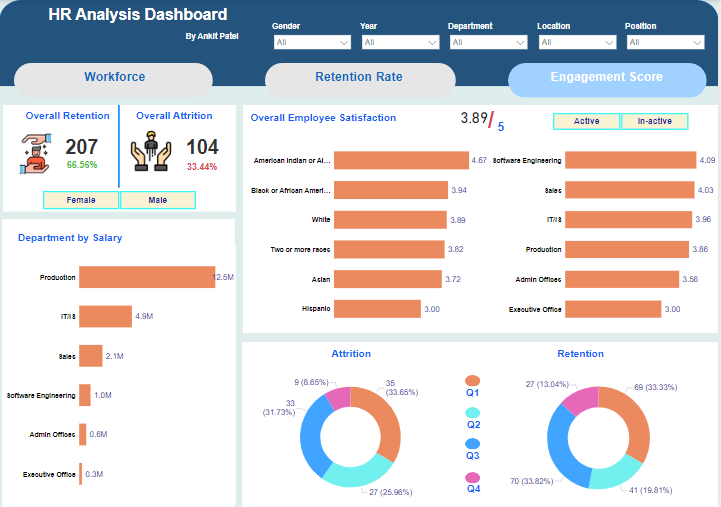

The dashboard page shown, as its layout file describes it:
{"tool":"powerbi","page":{"name":"Page 1","canvas":[1700,1200],"ordinal":0},"visuals":[{"type":"shape","box":[0,0,1700,203.9],"z":0},{"type":"actionButton","title":"HR Analysis Dashboard","box":[77.7,14,500.2,52.8],"z":1},{"type":"slicer","title":"Gender","fields":{"Values":["HR_Dataset.Sex"]},"box":[640.6,52.2,201.2,80.2],"z":2},{"type":"slicer","title":"Ethnicity ","fields":{"Values":["HR_Dataset.Ethnicity "]},"box":[848.3,51.2,202,80.6],"z":3},{"type":"slicer","title":"Location","fields":{"Values":["HR_Dataset.State"]},"box":[1265.3,51.2,202,80.6],"z":4},{"type":"slicer","title":"Department","fields":{"Values":["HR_Dataset.Department"]},"box":[1056.8,52.4,202,80.6],"z":5},{"type":"slicer","title":"Position","fields":{"Values":["HR_Dataset.Position"]},"box":[1473.8,53.1,202.2,78.8],"z":6},{"type":"shape","box":[14.1,226.2,598.4,973.8],"z":7},{"type":"image","box":[77.8,274,209.8,164.1],"z":8},{"type":"image","box":[340,274,208.1,164.1],"z":9},{"type":"barChart","fields":{"Category":["HR_Dataset.Ethnicity "],"Y":["CountNonNull(HR_Dataset.Ethnicity )"]},"box":[640.9,245.1,697.5,419.9],"z":12},{"type":"card","fields":{"Values":["Measures Table.% Female"]},"box":[13,437.7,300,37.7],"z":14},{"type":"card","fields":{"Values":["Measures Table.Male %"]},"box":[313,437.7,298.6,37.7],"z":15},{"type":"card","fields":{"Values":["Measures Table.Total Female"]},"box":[29,530.4,242,66.7],"z":16},{"type":"card","fields":{"Values":["Measures Table.Female Active"]},"box":[12,675.2,246.8,75.4],"z":17},{"type":"card","fields":{"Values":["Measures Table.Female In-active"]},"box":[15.4,828.9,243.3,54.8],"z":18},{"type":"card","fields":{"Values":["Measures Table.Female Avg Salary"]},"box":[15.4,961.4,291.3,61.7],"z":19},{"type":"card","fields":{"Values":["Measures Table.Female MEDIAN Salary"]},"box":[15.4,1101.9,299.9,97.7],"z":20},{"type":"actionButton","title":"Total No. of Employees","box":[13,494.2,598.6,36.2],"z":21},{"type":"actionButton","title":"No. of Working Employees","box":[0,637.3,611.8,36],"z":22},{"type":"actionButton","title":"No. of Employees Left","box":[12,780.2,599.8,36],"z":23},{"type":"actionButton","title":"Avg Median Salary","box":[12,1065.9,599.8,36],"z":24},{"type":"actionButton","title":"Avg Annual Salary","box":[29.1,923.1,599.8,36],"z":25},{"type":"card","fields":{"Values":["Measures Table.Total Male"]},"box":[312.6,534,298.4,66],"z":26},{"type":"card","fields":{"Values":["Measures Table.Male Active"]},"box":[328.3,675.4,248.2,75.4],"z":27},{"type":"card","fields":{"Values":["Measures Table.Male In-active"]},"box":[328.3,829.3,248.2,55],"z":28},{"type":"card","fields":{"Values":["Measures Table.Male Avg Salary"]},"box":[328.3,959.7,248.2,61.3],"z":29},{"type":"card","fields":{"Values":["Measures Table.Male Median Salary"]},"box":[328.3,1102.6,248.2,97.4],"z":30},{"type":"actionButton","title":"Is there any","box":[12,238.2,181.7,36],"z":31},{"type":"actionButton","title":"Gender Disparities","box":[166.2,238.2,219.4,36],"z":32},{"type":"actionButton","title":"?","box":[385.6,241.6,27.4,29.1],"z":33}]}

Visuals, with their boxes in screenshot pixels (x1, y1, x2, y2), scaled from the page's 1700x1200 canvas onto the 721x507 screenshot:
shape: bbox=(0, 0, 720, 86)
"HR Analysis Dashboard" actionButton: bbox=(33, 6, 245, 28)
"Gender" slicer: bbox=(272, 22, 357, 56)
"Ethnicity " slicer: bbox=(360, 22, 445, 56)
"Location" slicer: bbox=(537, 22, 622, 56)
"Department" slicer: bbox=(448, 22, 534, 56)
"Position" slicer: bbox=(625, 22, 711, 56)
shape: bbox=(6, 96, 260, 506)
image: bbox=(33, 116, 122, 185)
image: bbox=(144, 116, 232, 185)
barChart - HR_Dataset.Ethnicity  x CountNonNull(HR_Dataset.Ethnicity ): bbox=(272, 104, 568, 281)
card - Measures Table.% Female: bbox=(6, 185, 133, 201)
card - Measures Table.Male %: bbox=(133, 185, 259, 201)
card - Measures Table.Total Female: bbox=(12, 224, 115, 252)
card - Measures Table.Female Active: bbox=(5, 285, 110, 317)
card - Measures Table.Female In-active: bbox=(7, 350, 110, 373)
card - Measures Table.Female Avg Salary: bbox=(7, 406, 130, 432)
card - Measures Table.Female MEDIAN Salary: bbox=(7, 466, 134, 506)
"Total No. of Employees" actionButton: bbox=(6, 209, 259, 224)
"No. of Working Employees" actionButton: bbox=(0, 269, 259, 284)
"No. of Employees Left" actionButton: bbox=(5, 330, 259, 345)
"Avg Median Salary" actionButton: bbox=(5, 450, 259, 466)
"Avg Annual Salary" actionButton: bbox=(12, 390, 267, 405)
card - Measures Table.Total Male: bbox=(133, 226, 259, 254)
card - Measures Table.Male Active: bbox=(139, 285, 245, 317)
card - Measures Table.Male In-active: bbox=(139, 350, 245, 374)
card - Measures Table.Male Avg Salary: bbox=(139, 405, 245, 431)
card - Measures Table.Male Median Salary: bbox=(139, 466, 245, 506)
"Is there any" actionButton: bbox=(5, 101, 82, 116)
"Gender Disparities" actionButton: bbox=(70, 101, 164, 116)
"?" actionButton: bbox=(164, 102, 175, 114)
